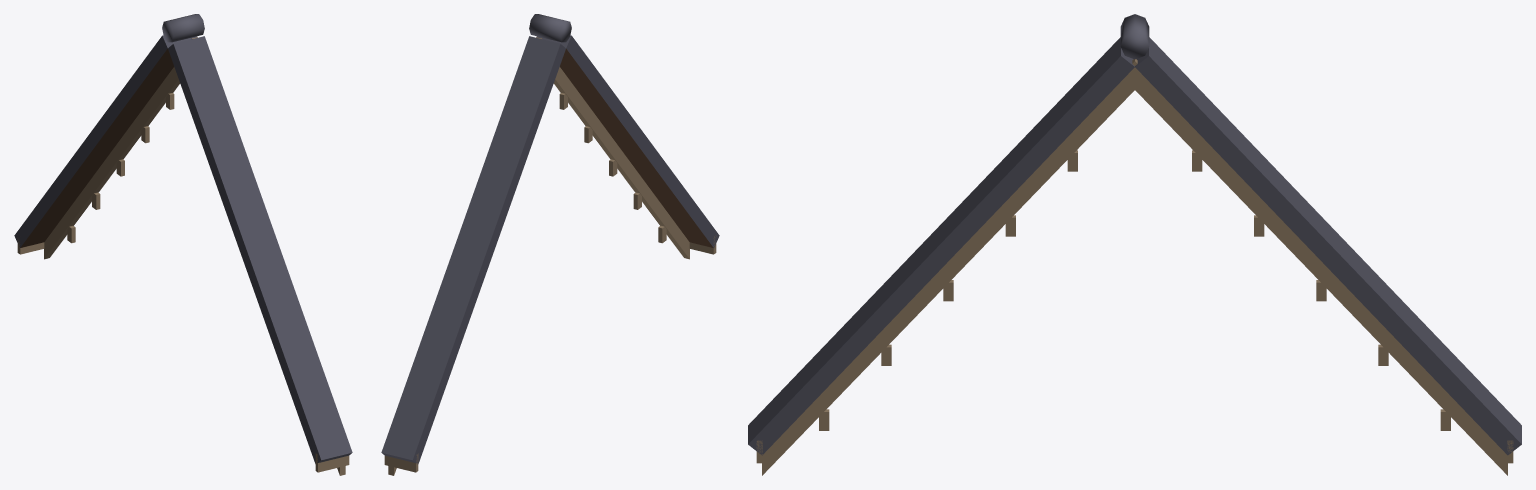
The model's file is kit_clapboard_slate_w3_end.glb.
3 renders of one model, left to right at view 1: azimuth 30°, elevation 25°; view 2: azimuth 150°, elevation 25°; view 3: azimuth 270°, elevation 25°, orthographic. The views are drawn at different scales.
Parts seen in each view (by area): view 1: kit_clapboard_slate_w3_end; view 2: kit_clapboard_slate_w3_end; view 3: kit_clapboard_slate_w3_end.
Boxes of the visible parts, left/top/right/bottom form: kit_clapboard_slate_w3_end: left=14, top=14, right=352, bottom=475; kit_clapboard_slate_w3_end: left=381, top=14, right=719, bottom=475; kit_clapboard_slate_w3_end: left=748, top=14, right=1521, bottom=475.
Bounding box in the file's own units: 0.22 × 2.36 × 3.74.
